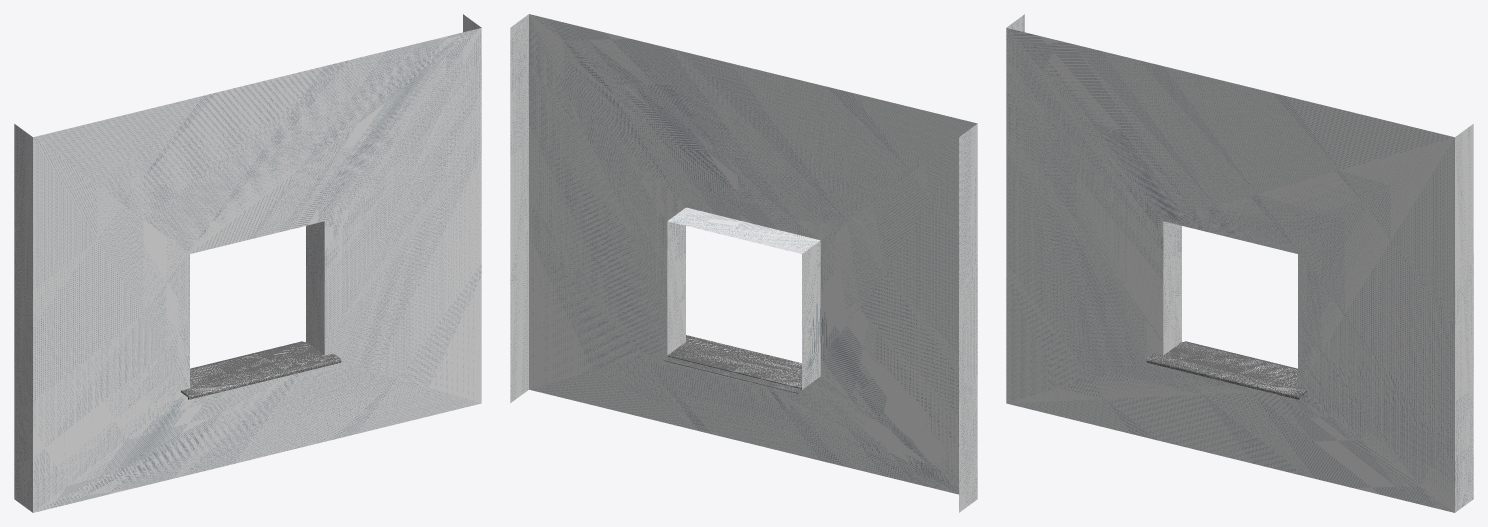
The model's file is WindowBlock_os_[500x400]_150x143x[090].dae.
3 views of the same model, side by side, from view 1: azimuth 30°, elevation 25°; view 2: azimuth 150°, elevation 25°; view 3: azimuth 330°, elevation 25° (orthographic).
Parts seen in each view (by area): view 1: group_1 (×2), group_2; view 2: group_1 (×2), group_2 (×2); view 3: group_1 (×2), group_2.
Boxes of the visible parts, bbox=[...] form: group_1 (×2): bbox=[14, 14, 481, 512]; group_2: bbox=[181, 342, 341, 399]; group_1 (×2): bbox=[510, 14, 977, 512]; group_2 (×2): bbox=[663, 335, 801, 393]; group_1 (×2): bbox=[1006, 14, 1473, 512]; group_2: bbox=[1146, 342, 1306, 399].
Bounding box in the file's own units: 197 × 23.03 × 157.
